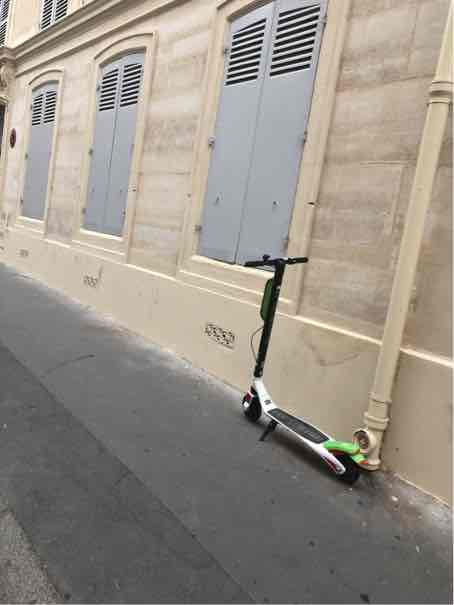scooter: (230, 247, 384, 486)
